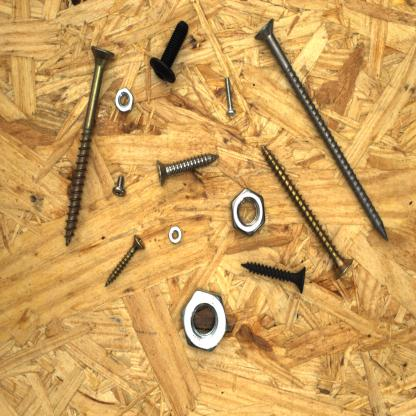screw: (253, 15, 391, 244), (259, 139, 357, 284), (61, 42, 118, 252), (235, 248, 311, 297), (144, 18, 194, 86), (101, 228, 149, 291), (153, 150, 222, 190), (218, 74, 238, 120), (109, 172, 129, 201)
